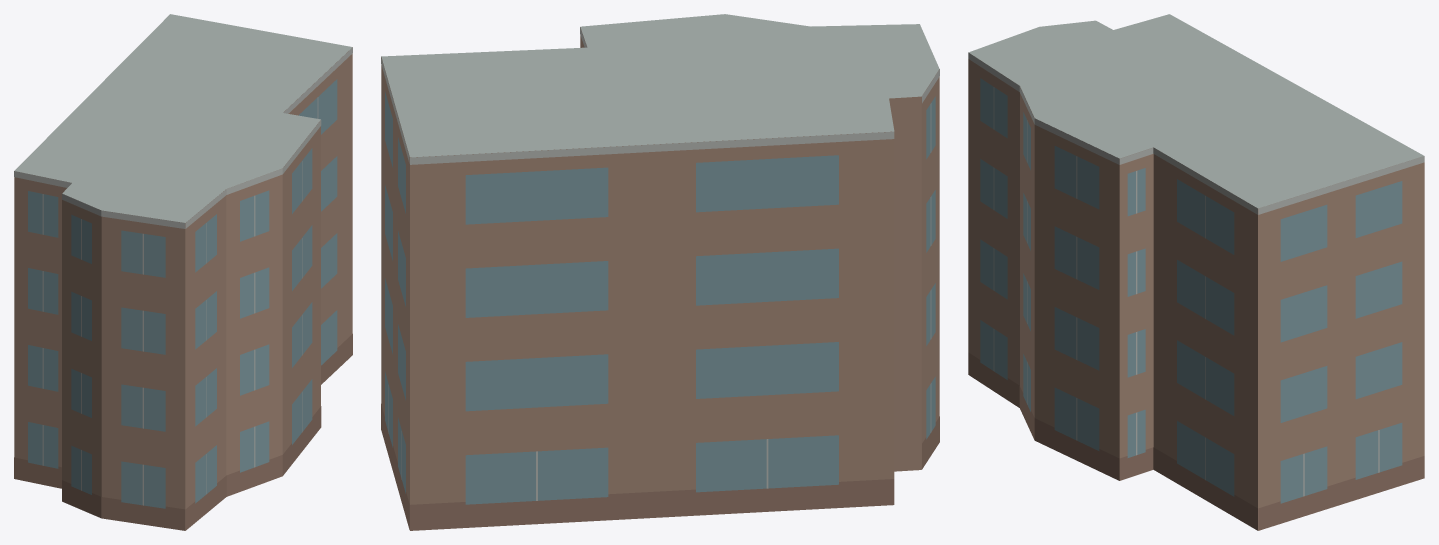
The model's file is survey-upis-32580515.glb.
The picture shows the model from 3 angles, left to right: view 1: azimuth 30°, elevation 25°; view 2: azimuth 150°, elevation 25°; view 3: azimuth 270°, elevation 25°; orthographic projection. The views are drawn at different scales.
Visible parts, largest first — view 1: survey-upis-32580515.tmp; view 2: survey-upis-32580515.tmp; view 3: survey-upis-32580515.tmp.
Boxes of the visible parts, x1,y1,x2,y2 form: survey-upis-32580515.tmp: (14, 14, 352, 530); survey-upis-32580515.tmp: (381, 14, 939, 530); survey-upis-32580515.tmp: (968, 14, 1424, 530).
Bounding box in the file's own units: 15.8 × 12.2 × 15.65.
